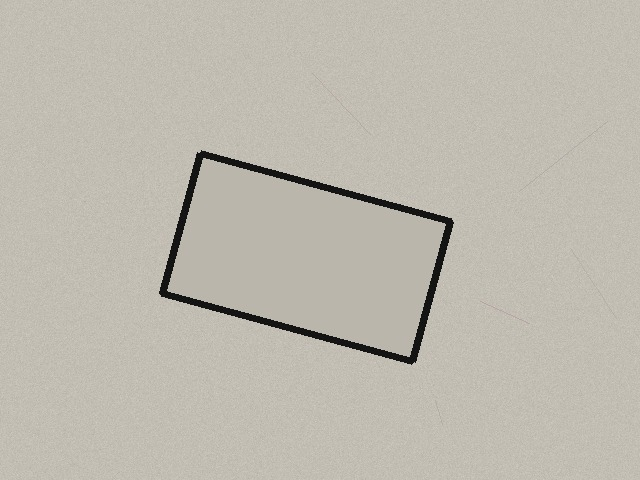parking_area: (162, 153, 450, 361)
